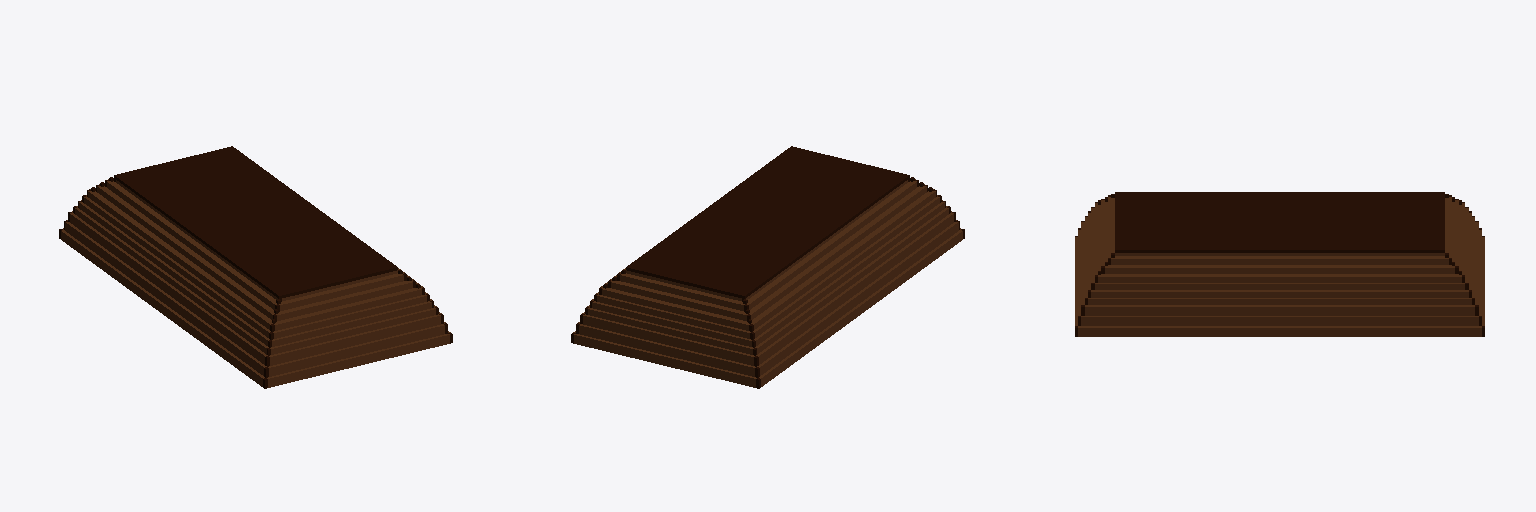
3 renders of one model, left to right at view 1: azimuth 30°, elevation 25°; view 2: azimuth 150°, elevation 25°; view 3: azimuth 270°, elevation 25°, orthographic.
Parts seen in each view (by area): view 1: object 1; view 2: object 1; view 3: object 1.
Part boxes in pixels (left/top/right/bottom): object 1: left=59, top=146, right=452, bottom=388; object 1: left=571, top=146, right=964, bottom=388; object 1: left=1075, top=192, right=1484, bottom=336.
Bounding box in the file's own units: 6.5 × 2.3 × 12.3.
Materials: 1 (1 with a texture image).